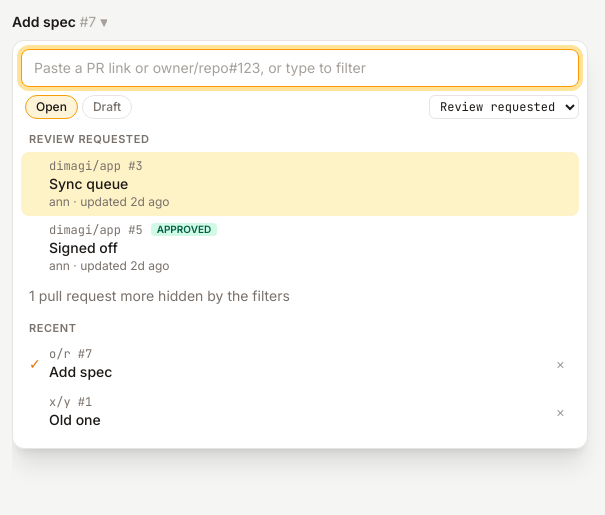
it: lists review requests, then recents not already listed, with the current PR marked
expect the text "Sync queue" is shown: met, box [49,174,128,192]
expect the text "Signed off" is shown: met, box [49,238,118,256]
Step 1. Click the button "Draft" → (107, 107), box [82,95,132,119]
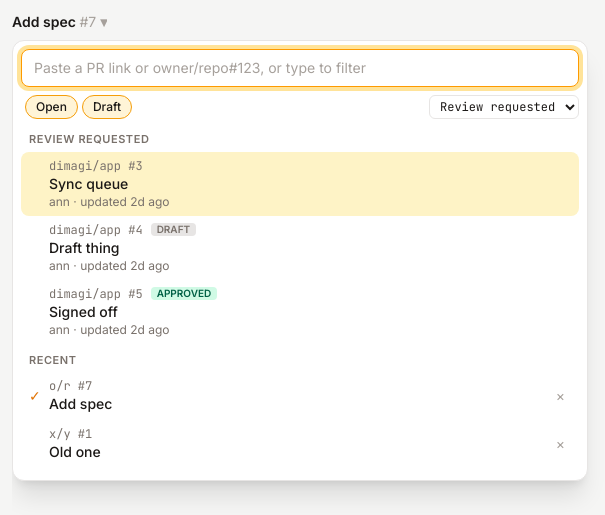
expect the text "Add spec" is shown: met, box [49,395,112,412]
expect the text "Draft thing" is shown: met, box [49,238,120,256]
expect the text "draft" is shown: met, box [151,223,196,236]
